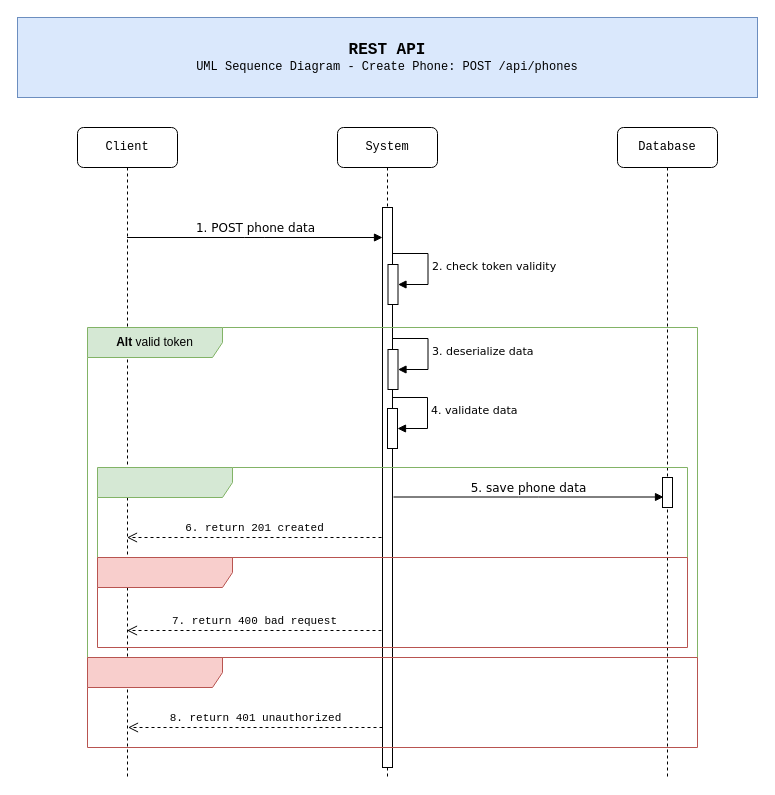
Image size: 775x795. Some labels were removed from this diagram. The shapes that lost their labels are listed below. From the top down, each one's centre as x and y in pixels, then its label:
(392,512): Alt valid data
(392,602): Alt invalid data
(392,702): Alt invalid token
